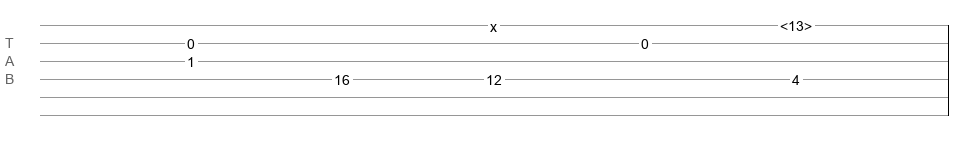0: (187, 36, 195, 46), (641, 36, 649, 46)
1: (187, 54, 195, 64)
12: (486, 72, 502, 82)
16: (334, 72, 350, 82)
4: (792, 72, 800, 82)
harmonic: (780, 18, 812, 28)
x: (490, 19, 497, 27)
